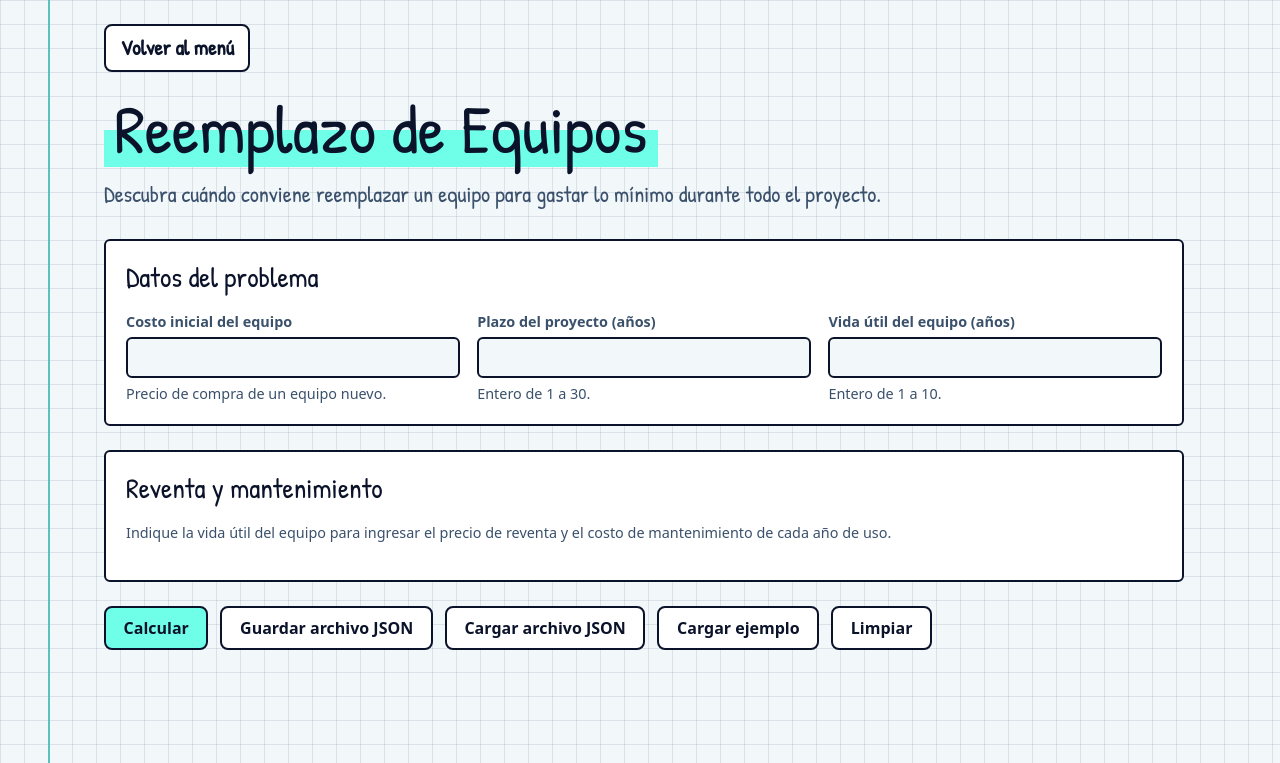
Pantalla de Reemplazo de Equipos › valida mientras se escribe y genera las filas según la vida útil
Type "31" into the field labelled "Plazo del proyecto (años)" at (644, 358), box [477, 337, 811, 378]
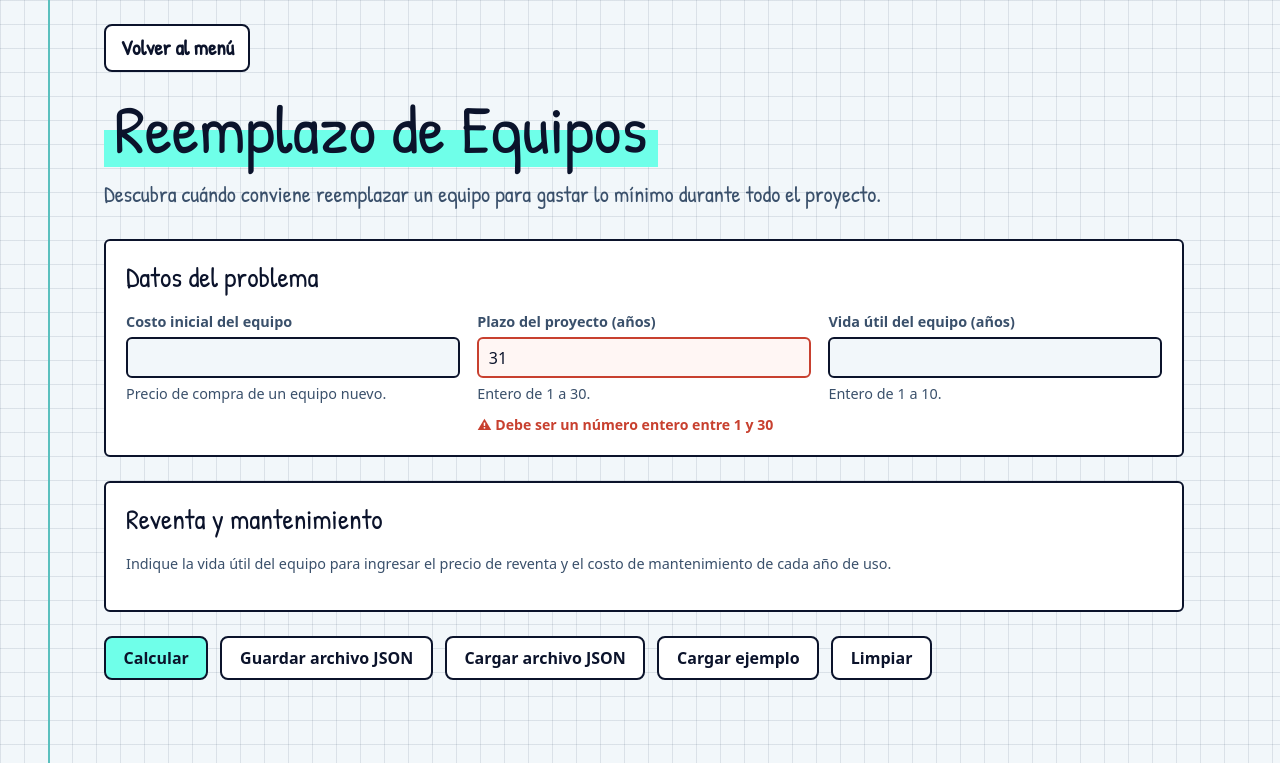
Expected: the text "Debe ser un número entero entre 1 y 30" is shown, [495, 415, 773, 434]
Type "2" into the field labelled "Vida útil del equipo (años)" at (995, 358), box [828, 337, 1162, 378]
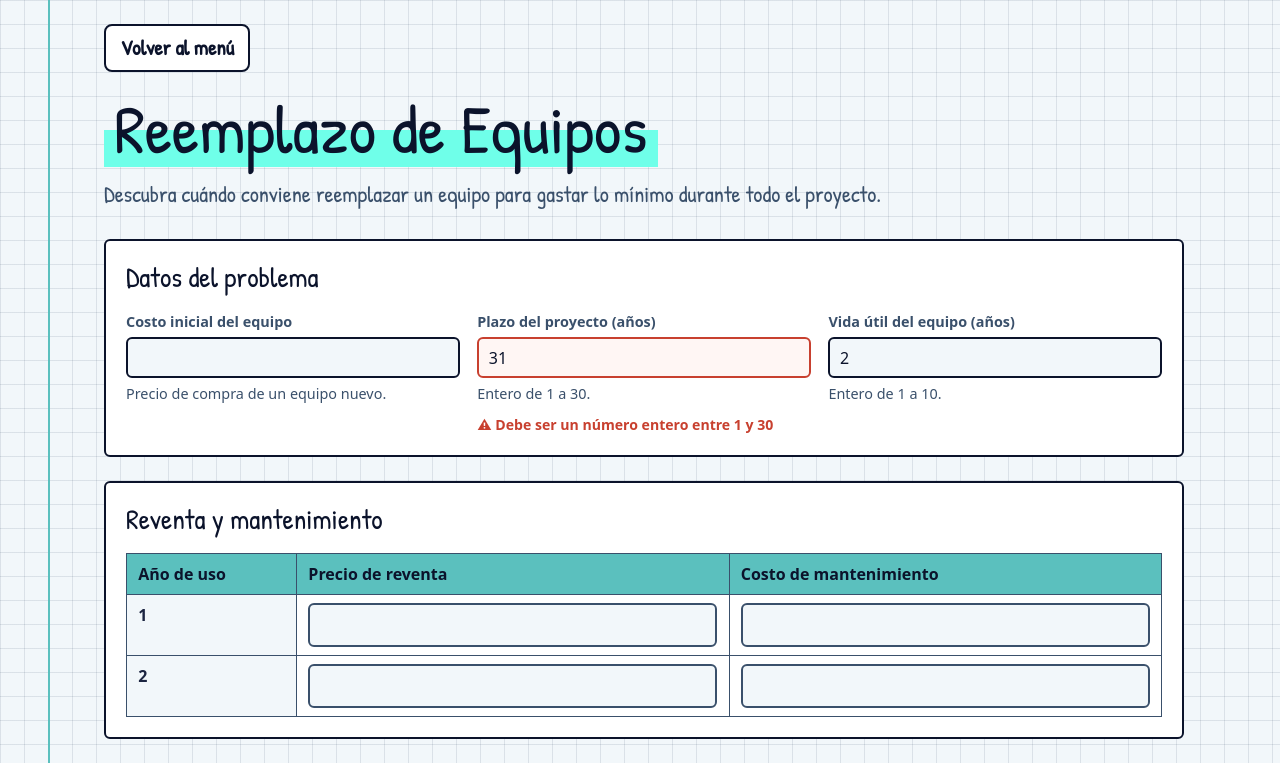
Expected: the field named "Precio de reventa, año 2" is shown, [308, 664, 717, 708]
